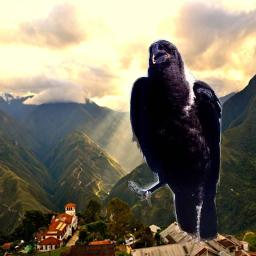Crow: (128, 38, 223, 247)
